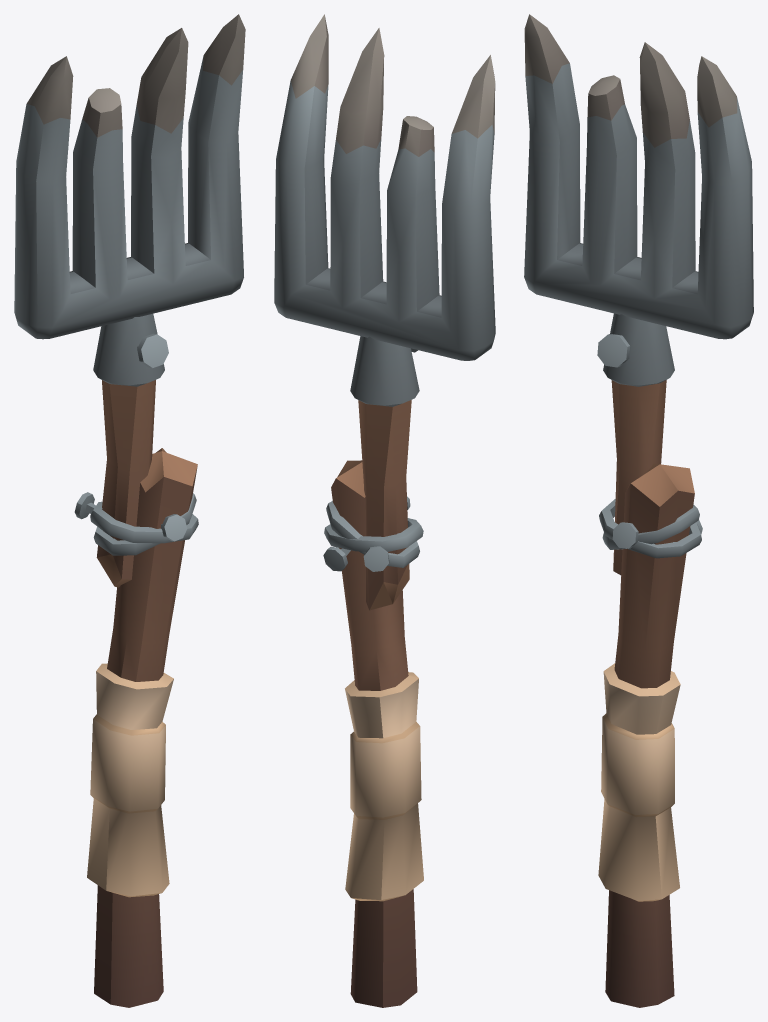
File: kk_mystery6_monstrosity_pitchfork_large.glb
3 views of the same model, side by side, from view 1: azimuth 30°, elevation 25°; view 2: azimuth 150°, elevation 25°; view 3: azimuth 330°, elevation 25° (orthographic). The views are drawn at different scales.
Visible parts, largest first — view 1: Monstrosity_Pitchfork_Large; view 2: Monstrosity_Pitchfork_Large; view 3: Monstrosity_Pitchfork_Large.
Boxes of the visible parts, <box> form: Monstrosity_Pitchfork_Large: <box>14,14,245,1007</box>; Monstrosity_Pitchfork_Large: <box>274,14,495,1007</box>; Monstrosity_Pitchfork_Large: <box>524,14,753,1007</box>.
Bounding box in the file's own units: 0.7599 × 3.29 × 0.3849.
1 material, 1 textured.
